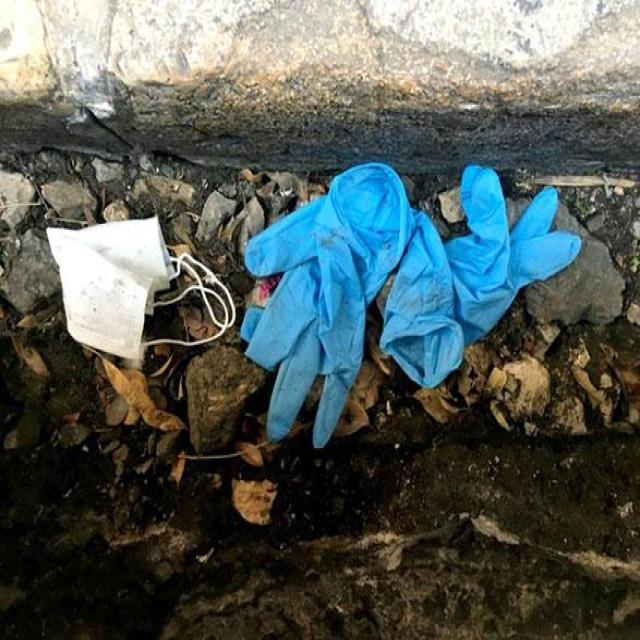b3: (43, 136, 586, 436)
